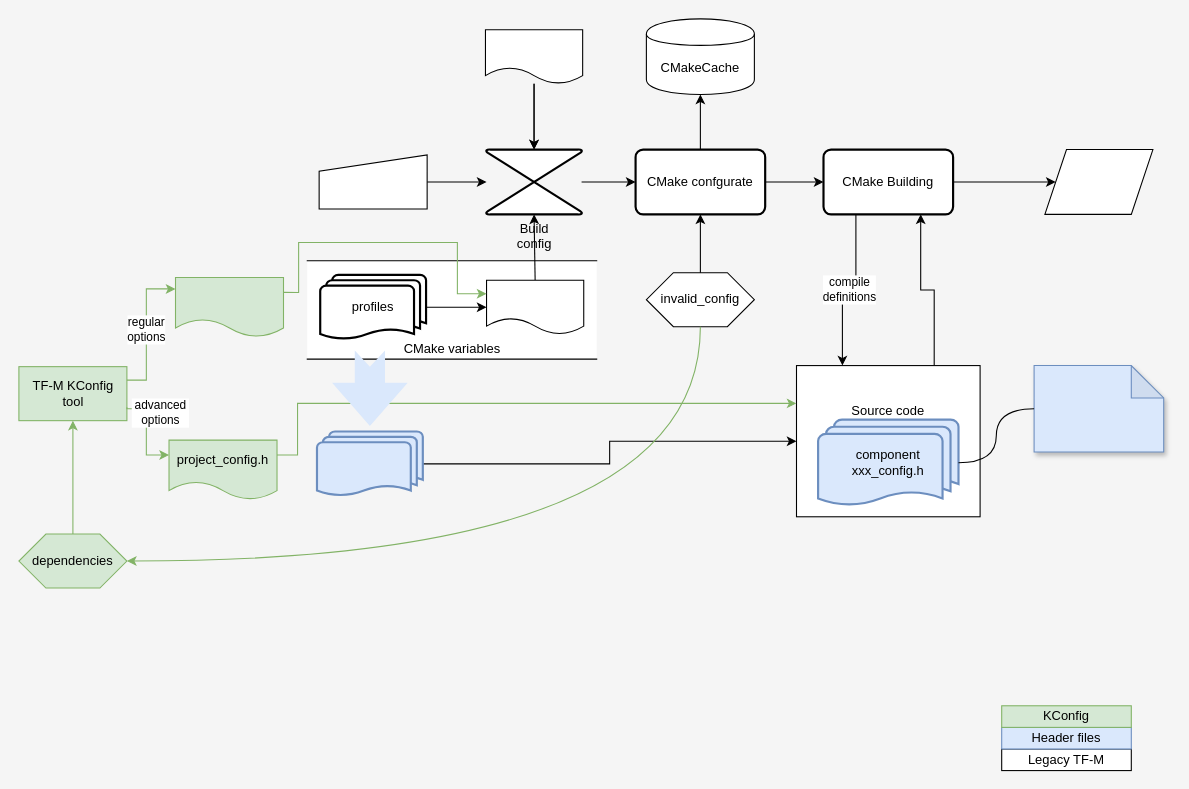
The diagram is 1189 pixels wide and 789 high, and some of its shapes have lost their labels. The centre of each missing label's shape, as x and y in pixels:
"Command line Input" goes at point 372,181.
"config base" goes at point 534,306.
"Platform config" goes at point 533,56.
"profile_project CMake" goes at point 229,306.
"profiles headers" goes at point 369,463.
"TF-M API Binaries" goes at point 1098,181.
"The default values. Not essential, but worth for completeness" goes at point 1099,410.
